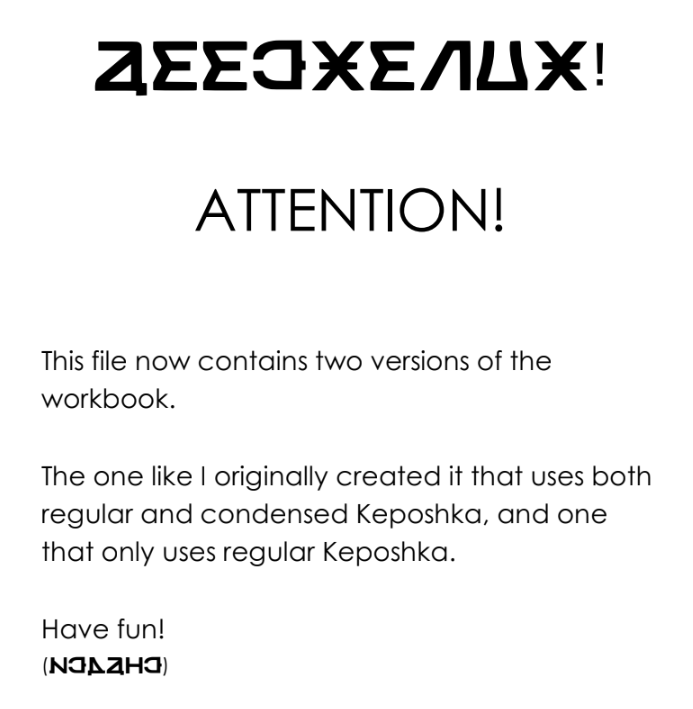A: (90, 28, 152, 99), (105, 655, 126, 676)
B: (46, 653, 69, 675)
E: (251, 31, 306, 100), (67, 654, 89, 676), (142, 654, 163, 676)
H: (86, 655, 107, 677)
I: (418, 36, 473, 105)
N: (533, 33, 592, 99), (309, 31, 364, 100)
O: (476, 31, 531, 100)
T: (148, 30, 204, 98), (199, 28, 254, 97), (364, 33, 419, 102)
V: (124, 655, 144, 676)
